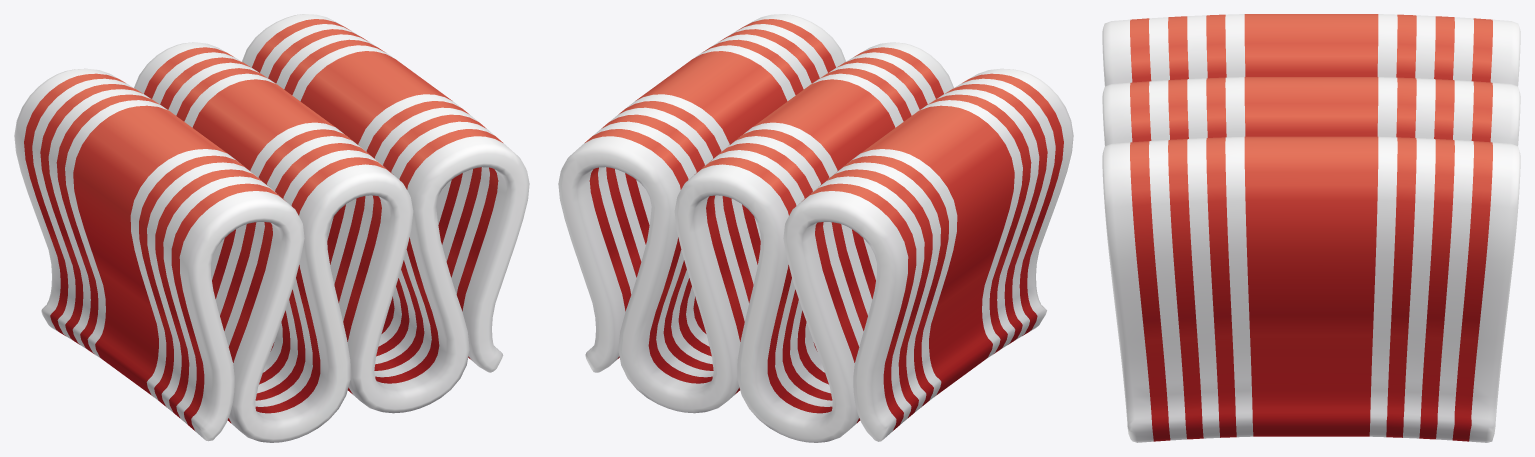
File: candyChair.gltf
The picture shows the model from 3 angles, left to right: view 1: azimuth 30°, elevation 25°; view 2: azimuth 150°, elevation 25°; view 3: azimuth 270°, elevation 25°; orthographic projection. The views are drawn at different scales.
Visible parts, largest first — view 1: RibbonCandy; view 2: RibbonCandy; view 3: RibbonCandy.
Part boxes in pixels (x1,y1,x2,y2): RibbonCandy: [14, 14, 529, 442]; RibbonCandy: [558, 14, 1073, 442]; RibbonCandy: [1102, 14, 1520, 442].
Size of the model in its own units: 46.14 by 34.71 by 43.4.
1 material, 1 textured.
